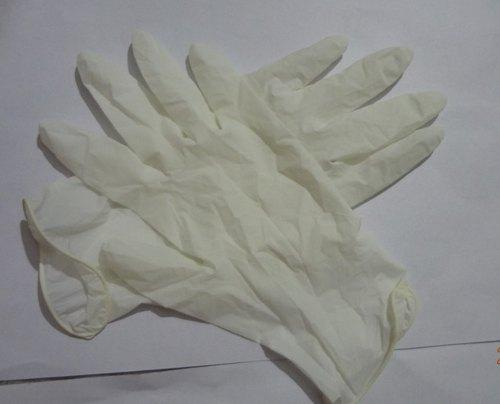gloves: (22, 34, 449, 401)
